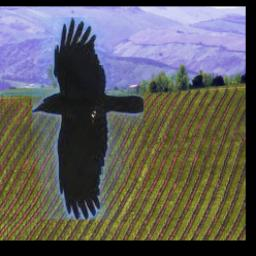Crow: (32, 18, 143, 220)
